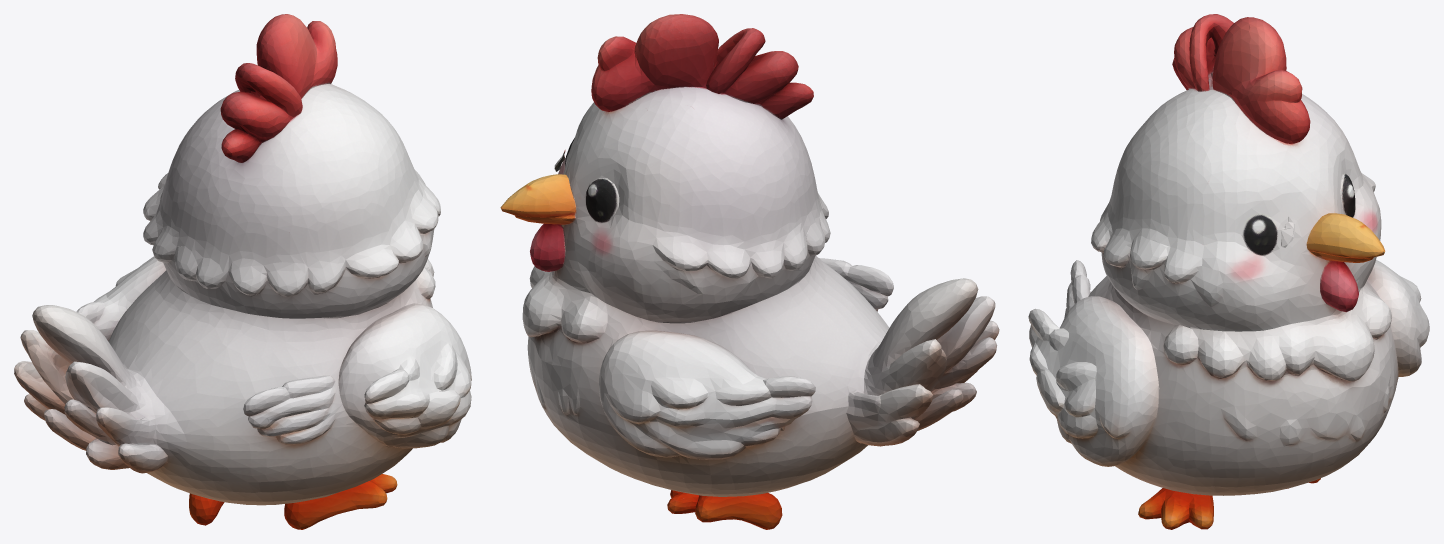
Rendered from chicken.glb.
The picture shows the model from 3 angles, left to right: view 1: azimuth 30°, elevation 25°; view 2: azimuth 150°, elevation 25°; view 3: azimuth 270°, elevation 25°; orthographic projection. The views are drawn at different scales.
Parts seen in each view (by area): view 1: world; view 2: world; view 3: world.
Part boxes in pixels (bbox=[...]): world: bbox=[14, 14, 471, 529]; world: bbox=[500, 14, 999, 529]; world: bbox=[1028, 14, 1429, 529].
Size of the model in its own units: 0.822 by 0.9467 by 0.6875.
Materials: 1 (1 with a texture image).
